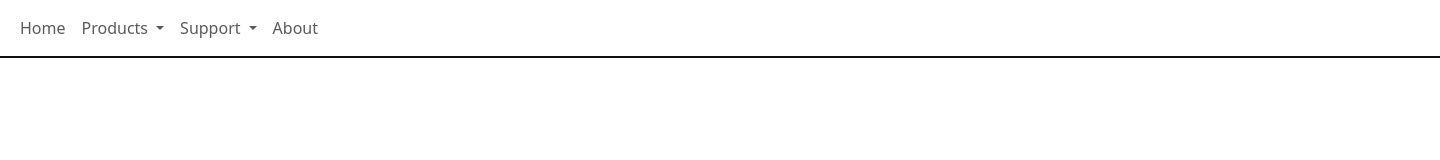
Test: Menubar › AC-12: hover-opened submenus stay open while hovered and close on Escape
Hover over the button "Products" at (123, 28), box [74,8,172,48]
Wait 150 ms
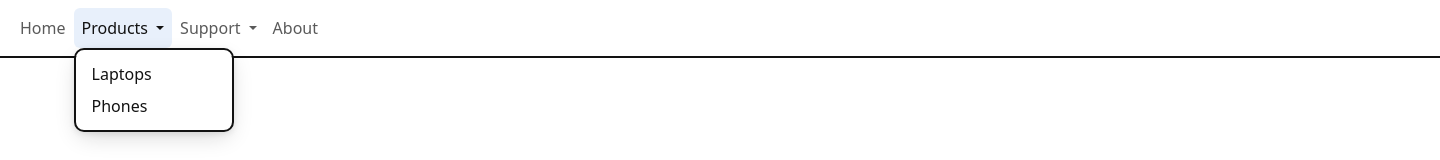
Expected: the button "Products" is expanded, [74,8,172,48]
Hover over the link "Laptops" at (122, 74), box [92,63,152,85]
Expected: the button "Products" is expanded, [74,8,172,48]
Press Escape
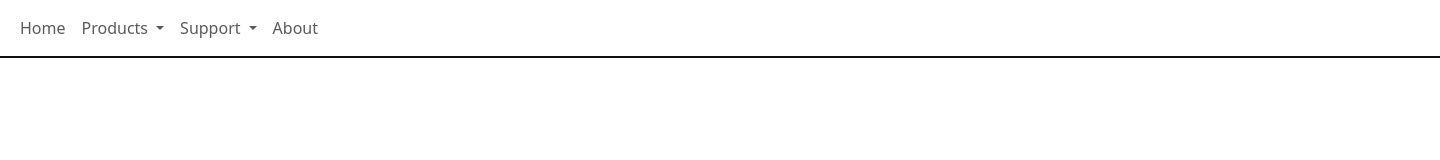
Expected: the button "Products" is collapsed, [74,8,172,48]
